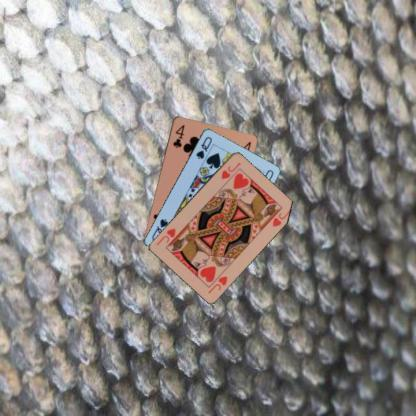4c: (170, 122, 186, 149)
Jh: (206, 268, 228, 295), (219, 160, 242, 180)
Qs: (193, 134, 214, 160)
